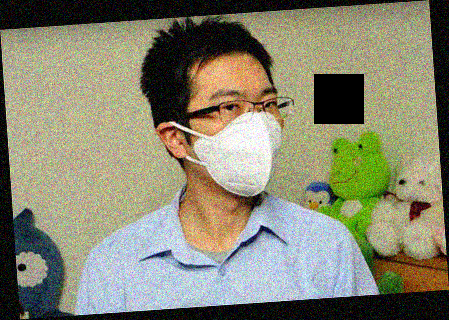with_mask: (190, 85, 286, 200)
